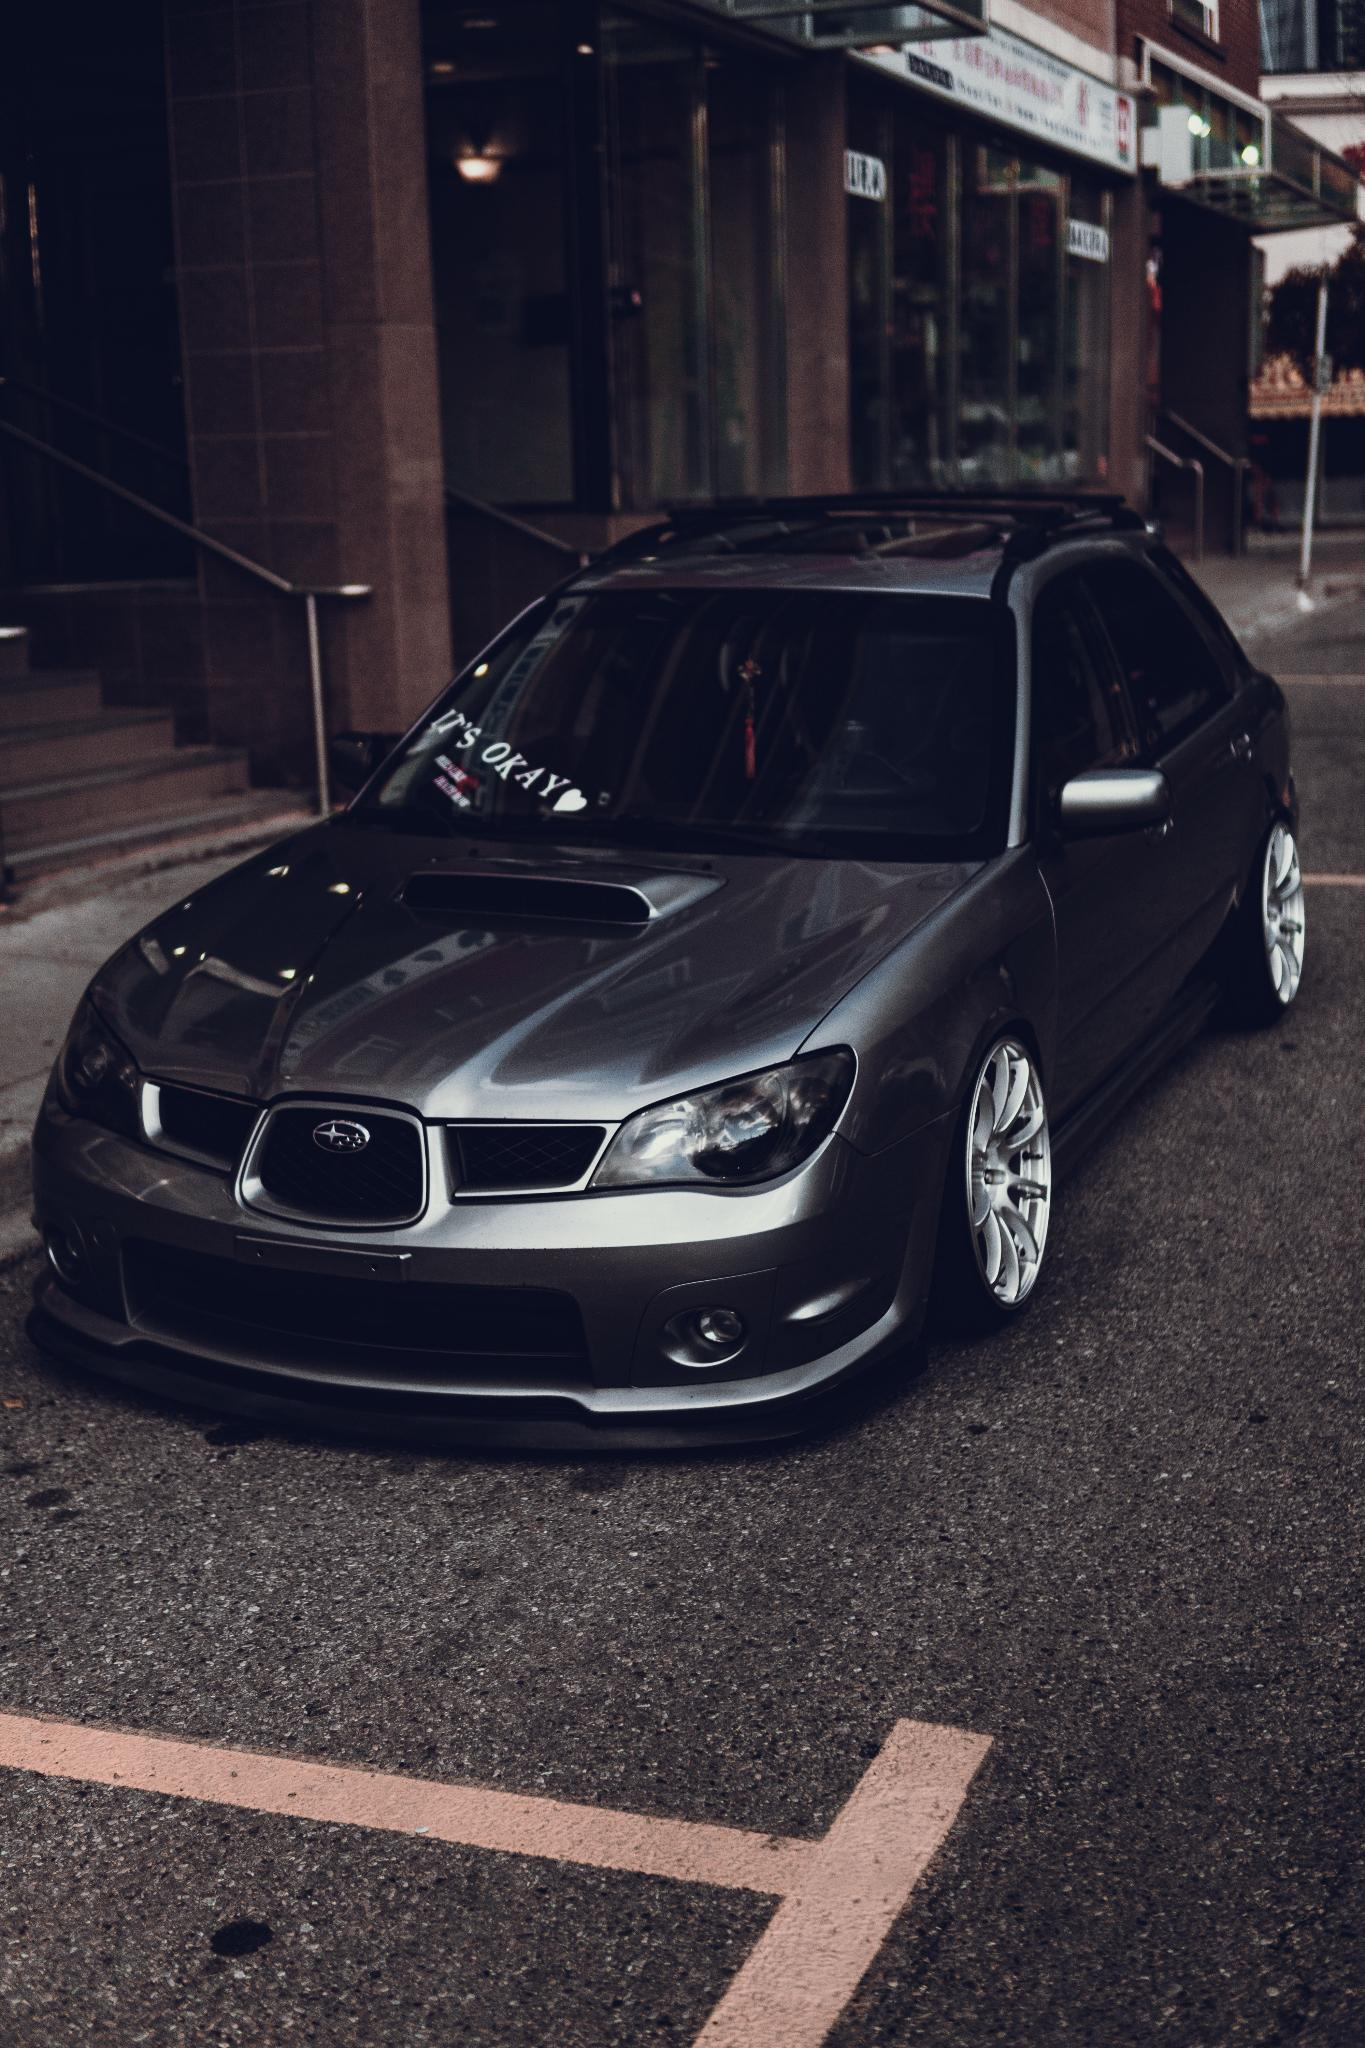subaru: (291, 1096, 393, 1182)
